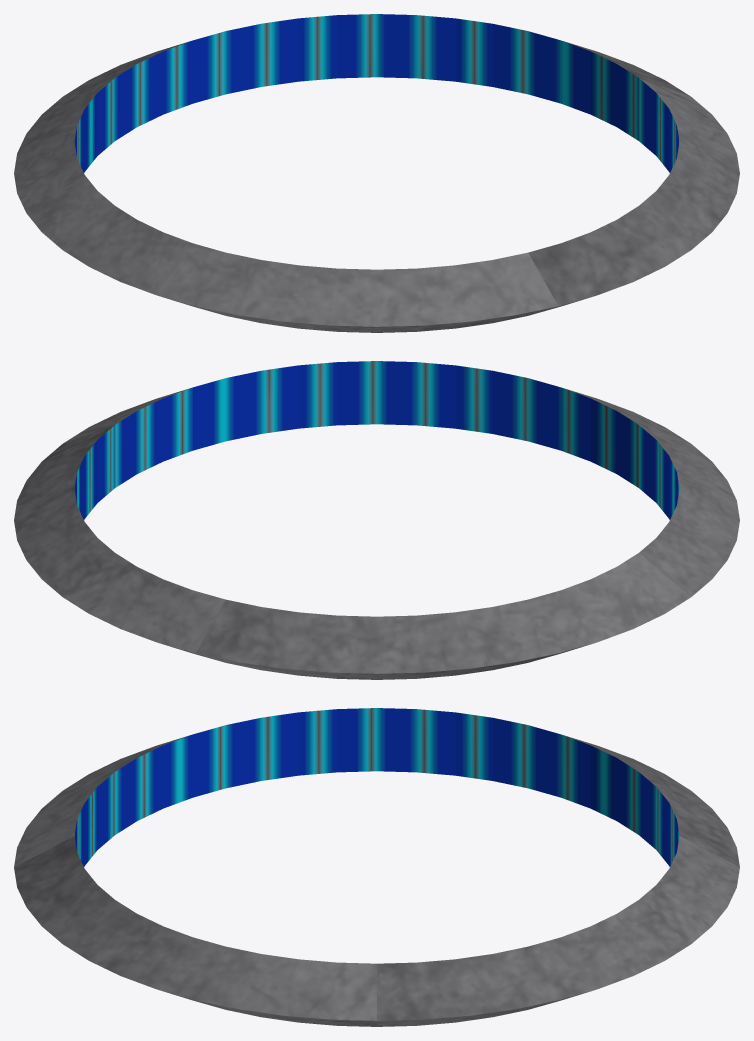
The model's file is teleport_pad_ring-v2.glb.
3 renders of one model, top to bottom at view 1: azimuth 30°, elevation 25°; view 2: azimuth 150°, elevation 25°; view 3: azimuth 270°, elevation 25°, orthographic.
Parts seen in each view (by area): view 1: Torus; view 2: Torus; view 3: Torus.
Boxes of the visible parts, x1,y1,x2,y2 form: Torus: [14, 14, 739, 332]; Torus: [14, 361, 739, 679]; Torus: [14, 708, 739, 1026].
Bounding box in the file's own units: 4.5 × 0.433 × 4.5.
1 material, 1 textured.
